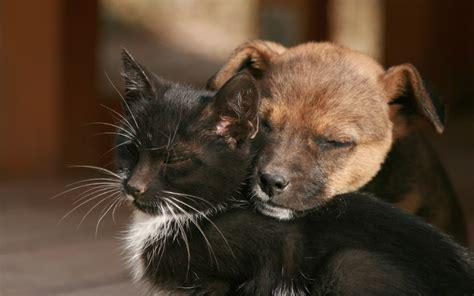cat: (118, 47, 474, 296)
dog: (210, 41, 443, 218)
